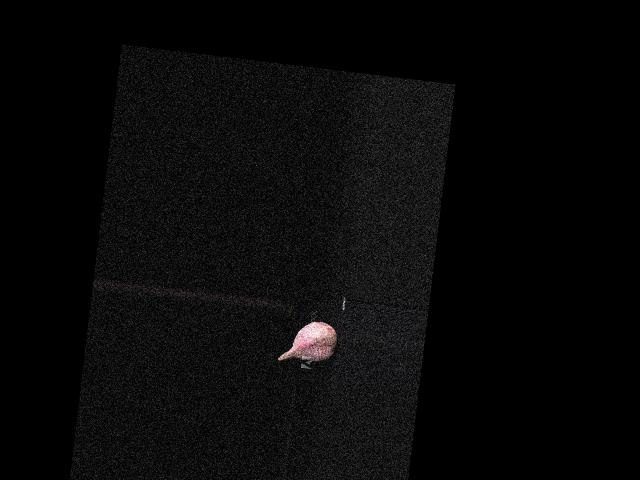beet: (278, 317, 338, 366)
